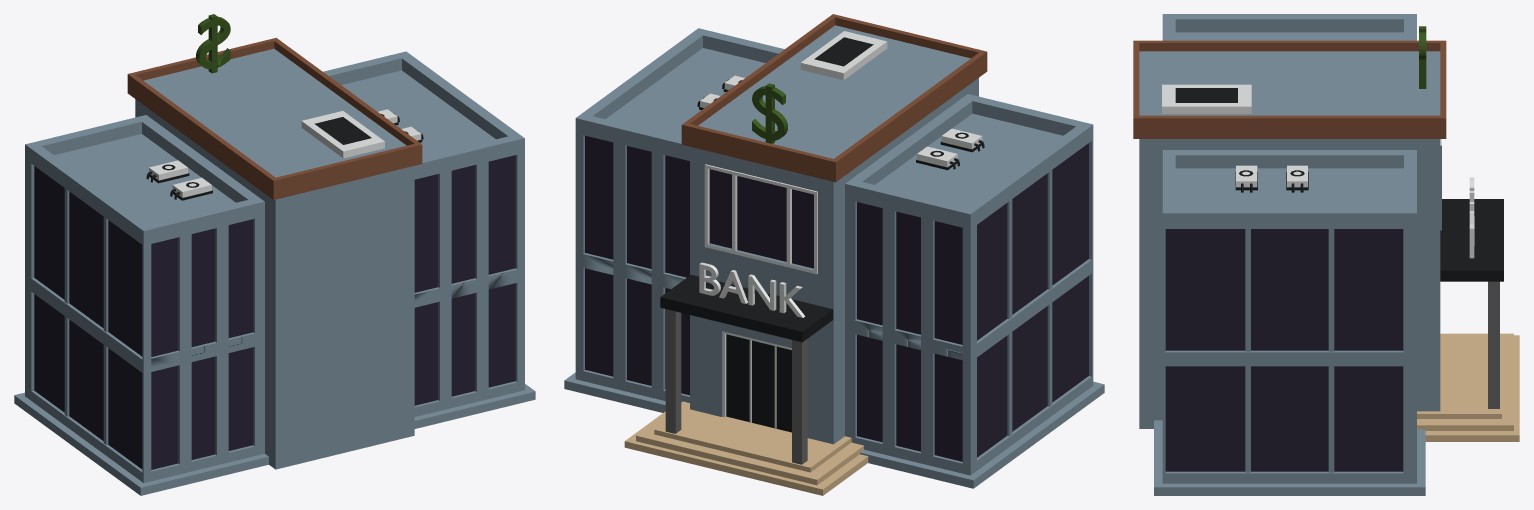
The model's file is bank.fbx.
3 renders of one model, left to right at view 1: azimuth 30°, elevation 25°; view 2: azimuth 150°, elevation 25°; view 3: azimuth 270°, elevation 25°, orthographic. The views are drawn at different scales.
Parts seen in each view (by area): view 1: Bank_1; view 2: Bank_1; view 3: Bank_1.
Part boxes in pixels (<box>): Bank_1: <box>14,14,535,495</box>; Bank_1: <box>564,14,1104,495</box>; Bank_1: <box>1133,14,1519,495</box>.
Bounding box in the file's own units: 1893 × 1558 × 1496.
